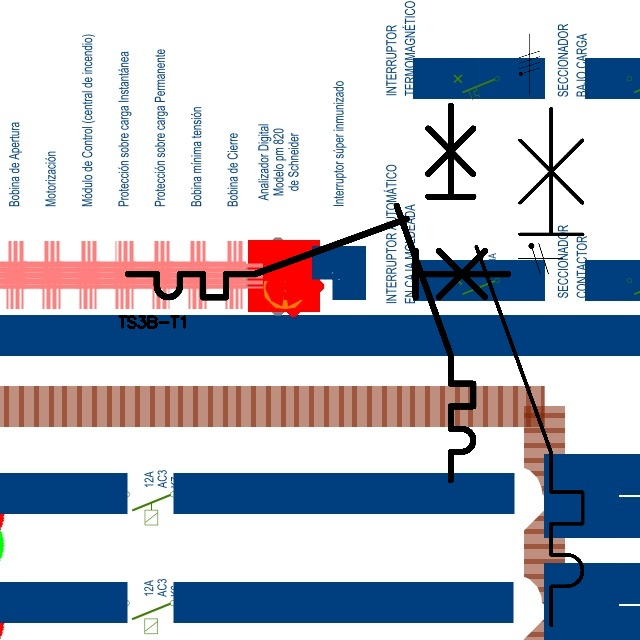interruptor_termomagnetico: (463, 95, 596, 638), (118, 209, 517, 307), (387, 96, 483, 490)
